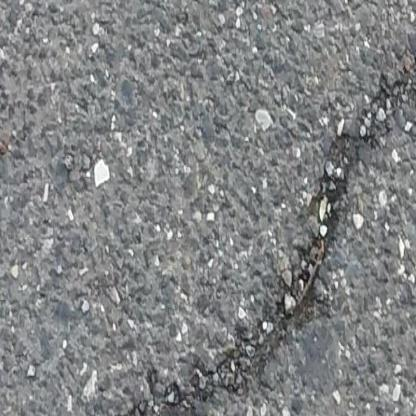Cracks: (106, 26, 416, 416)
